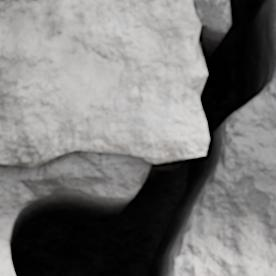brick: (0, 0, 207, 165)
crack: (2, 0, 275, 275)
